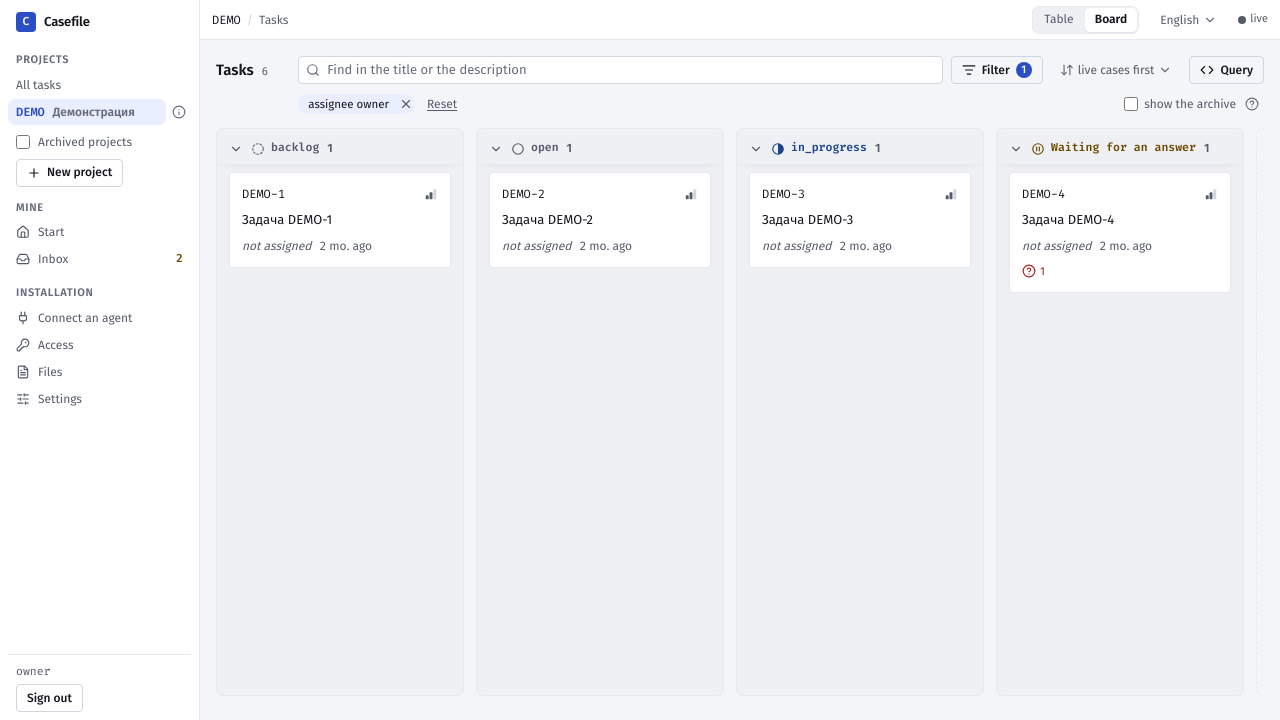
Test: доска › переключение в таблицу сохраняет отбор и меняет адрес
Expected: the element "open" is shown, [476,128,724,696]
Step 1. Click the link "Table" → (1059, 19), box [1044,12,1074,26]
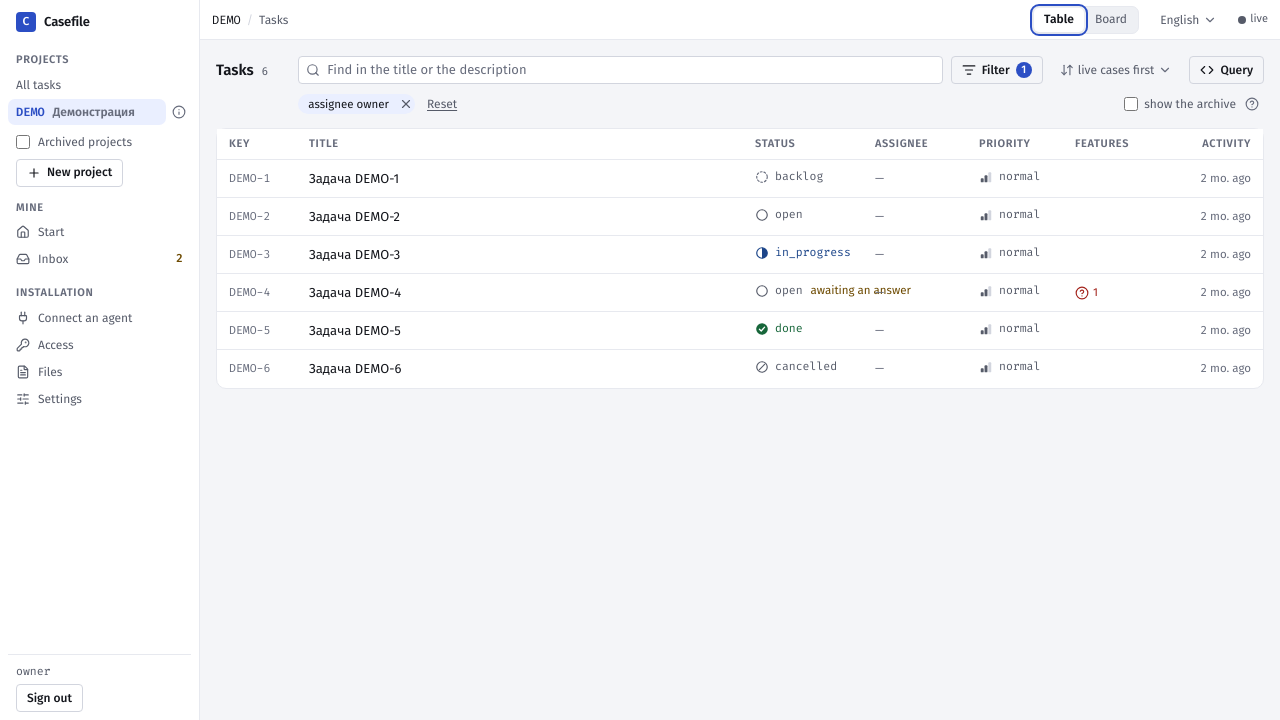
Result: the table is shown at [217,129,1263,388]
